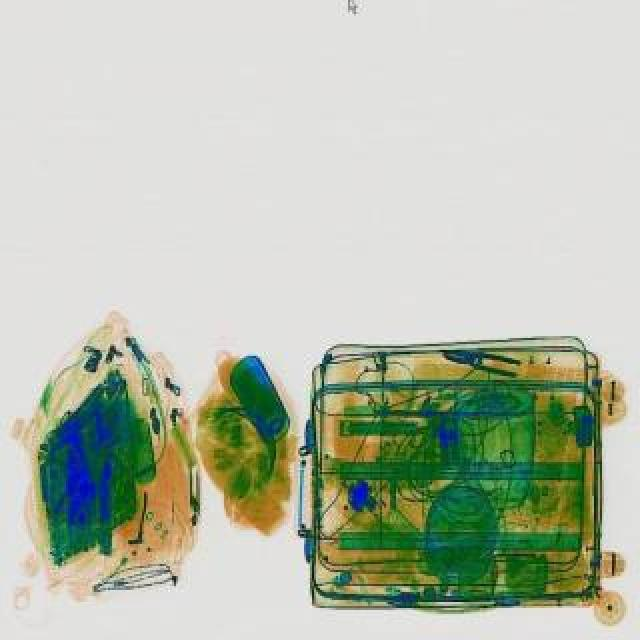wrench: (442, 342, 522, 376)
